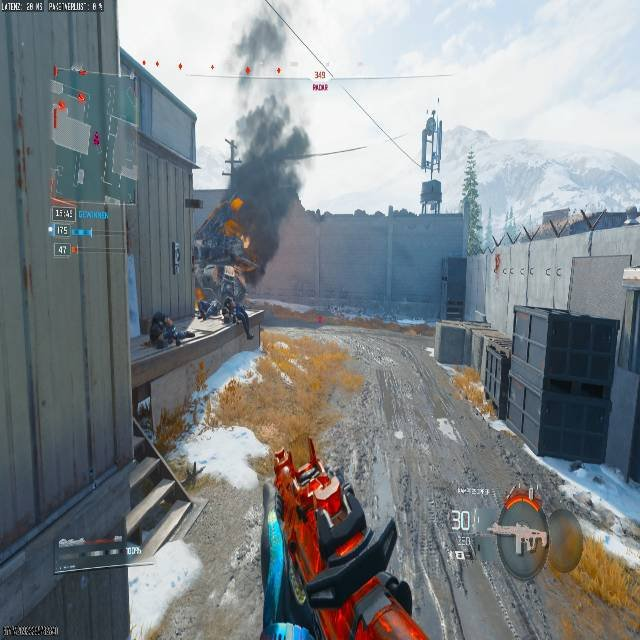head: (152, 312, 164, 323)
player: (198, 90, 312, 332), (184, 203, 271, 340)
